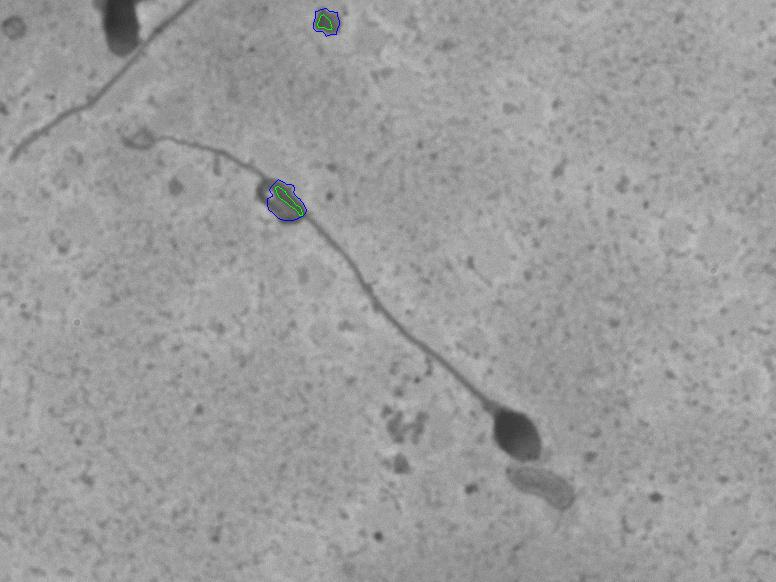Normal: (142, 56, 626, 467)
